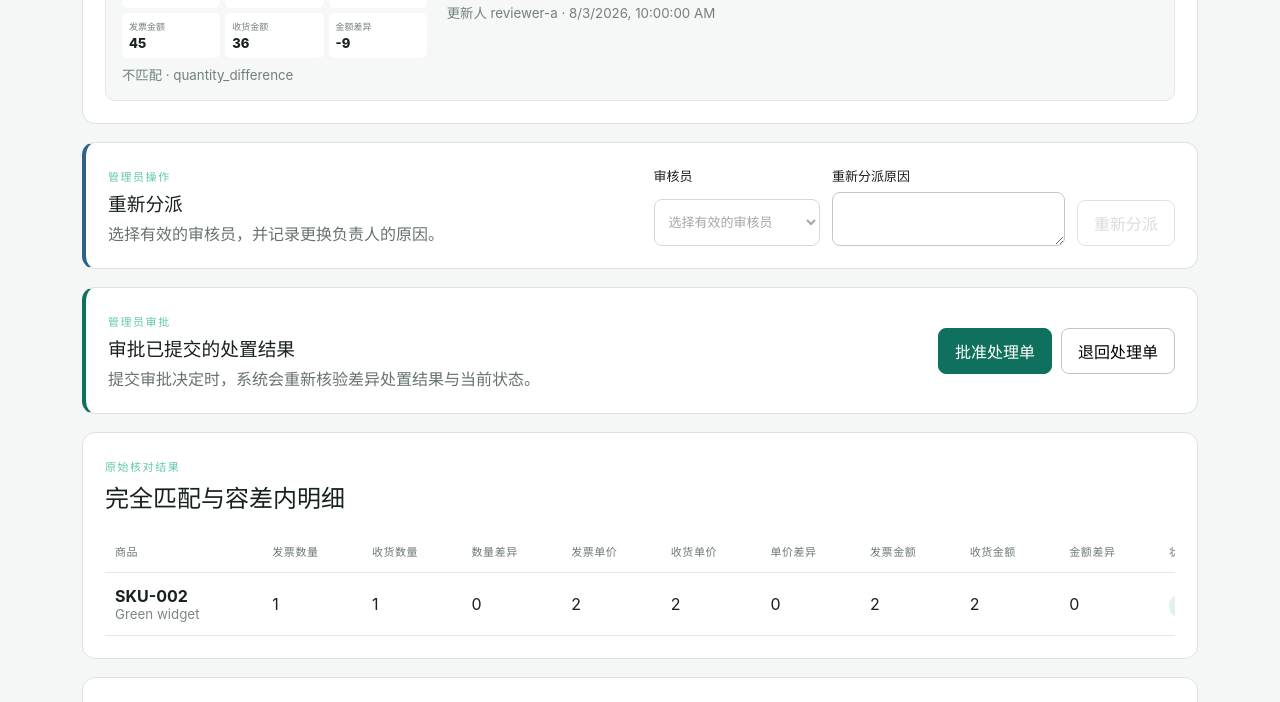
Scenario: CaseDetailPage admin workflow › approves only a pending approval Case with its current revision
(page scrolled)
Expected: the button "退回处理单" is shown, [1061,328,1175,374]
Click the button "批准处理单": click(995, 351) [938,328,1052,374]
(page scrolled)
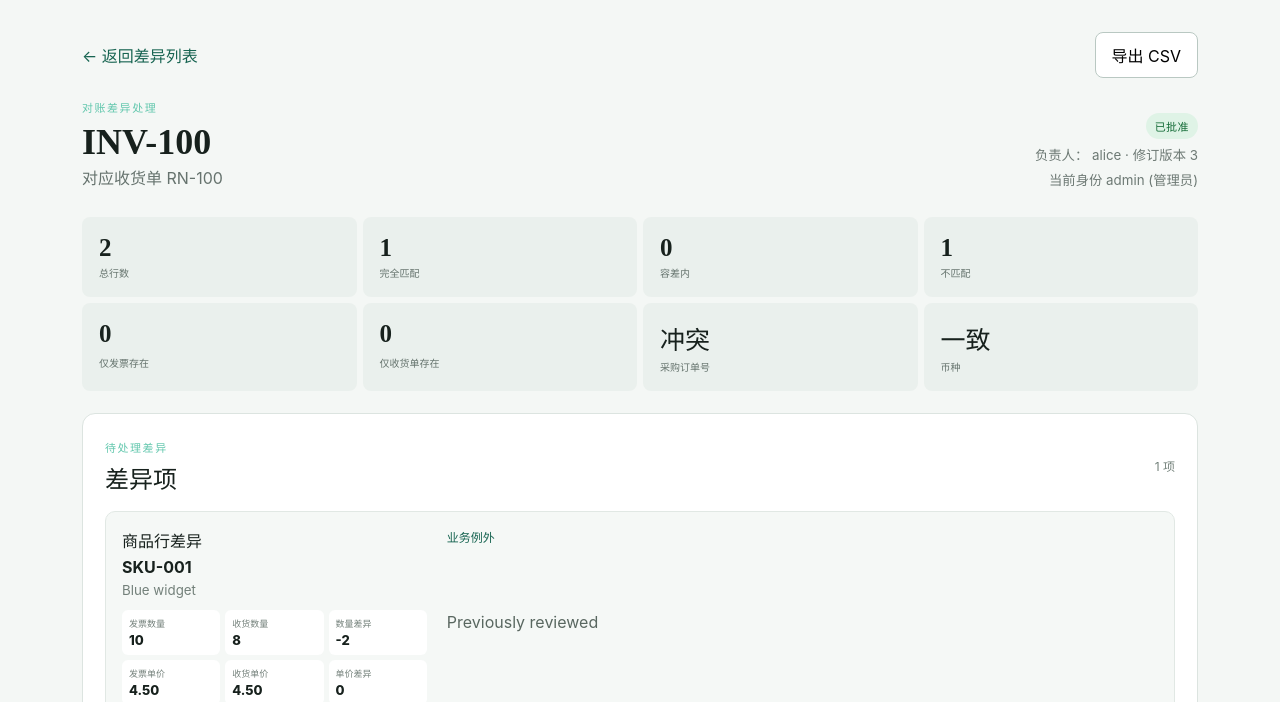
Expected: the text "已批准" is shown, [1146,113,1198,139]
